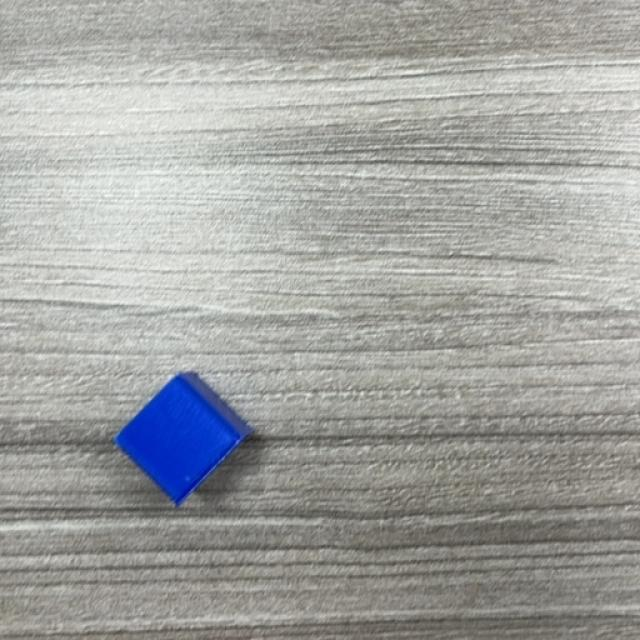Azul: (114, 372, 254, 508)
